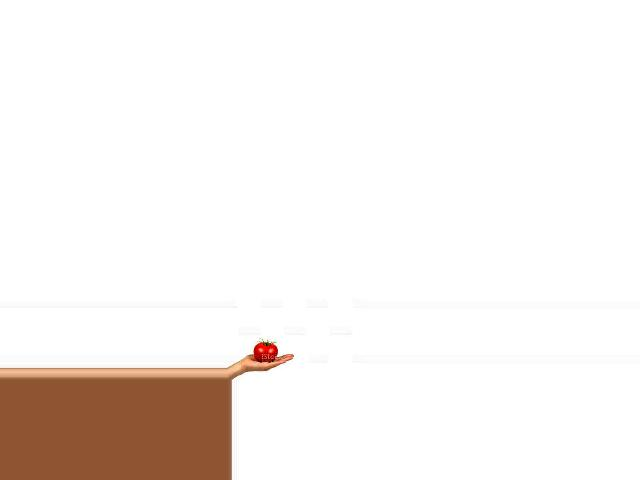tomato: (254, 342, 277, 362)
